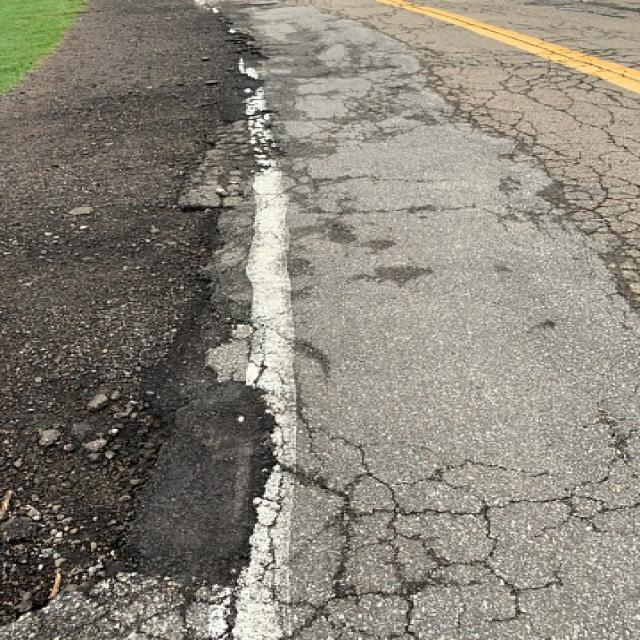Pothole: (0, 56, 481, 639)
